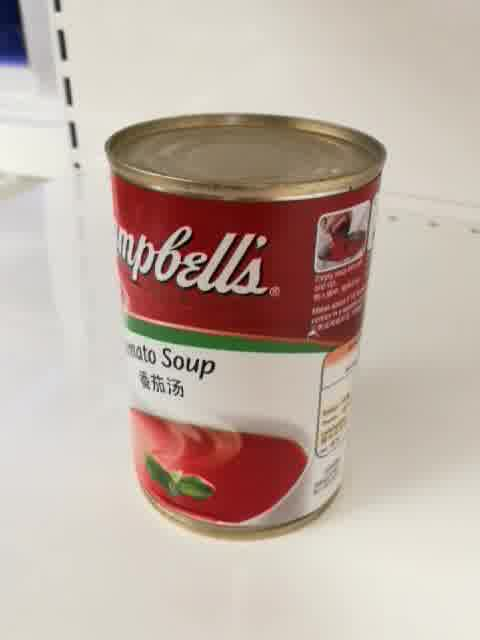tomatosoup: (101, 110, 387, 543)
